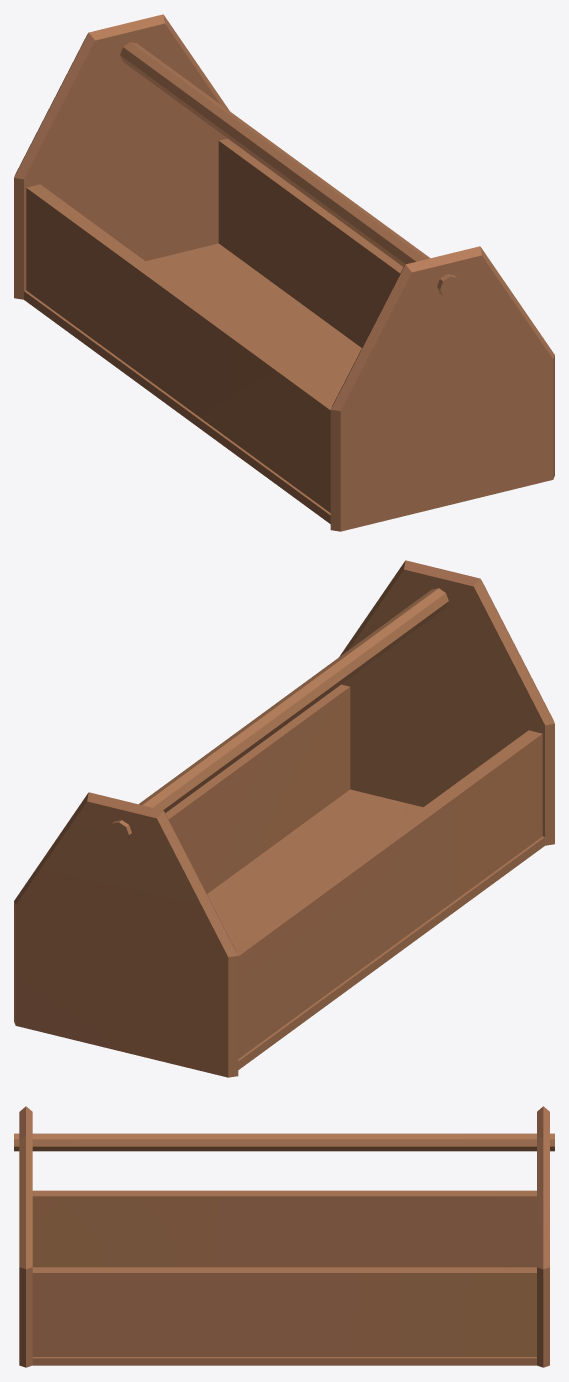
The model's file is toolbox-creativetrio_3ImQcIK0Gp.glb.
3 renders of one model, top to bottom at view 1: azimuth 30°, elevation 25°; view 2: azimuth 150°, elevation 25°; view 3: azimuth 270°, elevation 25°, orthographic. The views are drawn at different scales.
Parts seen in each view (by area): view 1: Toolbox; view 2: Toolbox; view 3: Toolbox.
Part boxes in pixels (x1,y1,x2,y2): Toolbox: (14, 14, 554, 531); Toolbox: (14, 560, 554, 1077); Toolbox: (14, 1106, 554, 1367).
Bounding box in the file's own units: 0.2269 × 0.2393 × 0.5807.
1 material, 1 textured.
